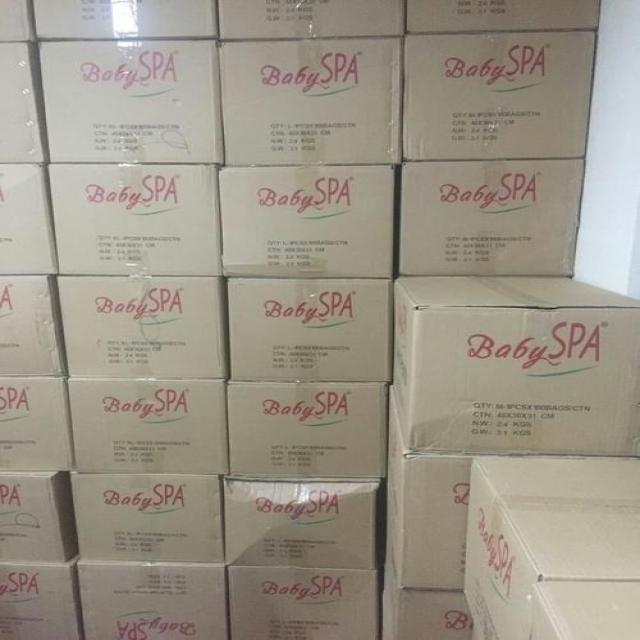box: (379, 385, 640, 592), (390, 276, 640, 457), (462, 458, 640, 640), (402, 32, 596, 160), (219, 36, 404, 167), (38, 40, 223, 163), (399, 159, 586, 276), (219, 165, 397, 279), (49, 164, 223, 276), (56, 276, 230, 378), (227, 278, 393, 382), (228, 383, 390, 481), (67, 378, 228, 476), (223, 477, 383, 571), (73, 474, 223, 564), (78, 559, 229, 640), (228, 566, 380, 640), (376, 543, 479, 640), (216, 0, 406, 41), (33, 0, 219, 40), (0, 555, 83, 640), (0, 472, 78, 562), (0, 378, 74, 472), (0, 275, 68, 376), (0, 163, 59, 275), (406, 0, 599, 34), (531, 581, 640, 640), (0, 41, 50, 163), (0, 0, 38, 44)
